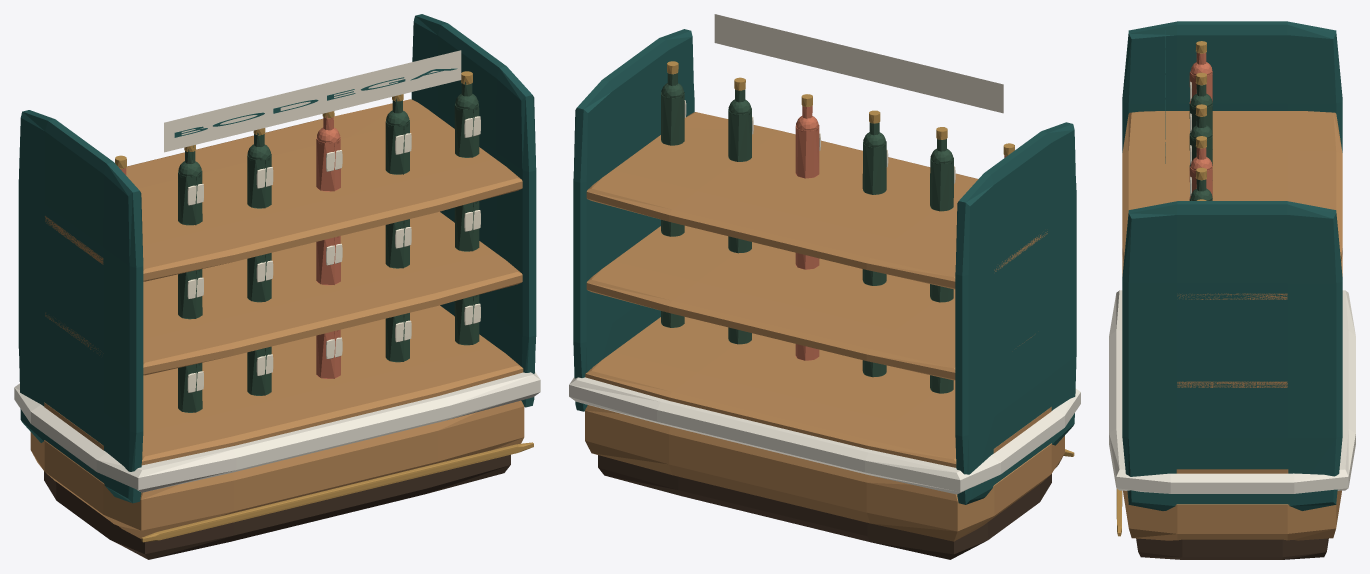
The model's file is better.glb.
The picture shows the model from 3 angles, left to right: view 1: azimuth 30°, elevation 25°; view 2: azimuth 150°, elevation 25°; view 3: azimuth 270°, elevation 25°; orthographic projection. The views are drawn at different scales.
Parts seen in each view (by area): view 1: Native component 6, Native component 3, Native component 1, Native component 64, Native component 5, Native component 0, Native component 46, Native component 2, Native component 10, Sign BODEGA; view 2: Native component 6, Native component 3, Native component 1, Native component 64, Native component 0, Native component 5, Native component 10, Native component 2; view 3: Native component 3, Native component 6, Native component 1, Native component 0, Native component 64, Native component 10, Native component 2.
Part boxes in pixels (box(x1,y1,x2,y2)): Native component 6: box(30, 99, 524, 538); Native component 3: box(18, 14, 536, 503); Native component 1: box(14, 372, 540, 492); Native component 64: box(178, 82, 479, 412); Native component 5: box(164, 50, 461, 152); Native component 0: box(44, 454, 510, 559); Native component 46: box(187, 116, 480, 392); Native component 2: box(115, 71, 533, 542); Native component 10: box(119, 116, 340, 378); Sign BODEGA: box(174, 68, 457, 137); Native component 6: box(585, 112, 1064, 541); Native component 3: box(573, 29, 1076, 504); Native component 1: box(569, 377, 1080, 494); Native component 64: box(661, 73, 953, 393); Native component 0: box(598, 455, 1051, 559); Native component 5: box(714, 14, 1003, 113); Native component 10: box(795, 106, 1006, 360); Native component 2: box(667, 61, 1074, 456); Native component 3: box(1122, 21, 1342, 510); Native component 6: box(1122, 111, 1342, 540); Native component 1: box(1109, 290, 1355, 493); Native component 0: box(1136, 538, 1328, 559); Native component 64: box(1189, 84, 1212, 200); Native component 10: box(1189, 52, 1212, 198); Native component 2: box(1116, 41, 1206, 536).
Size of the model in its own units: 2.1 by 1.98 by 1.12.
